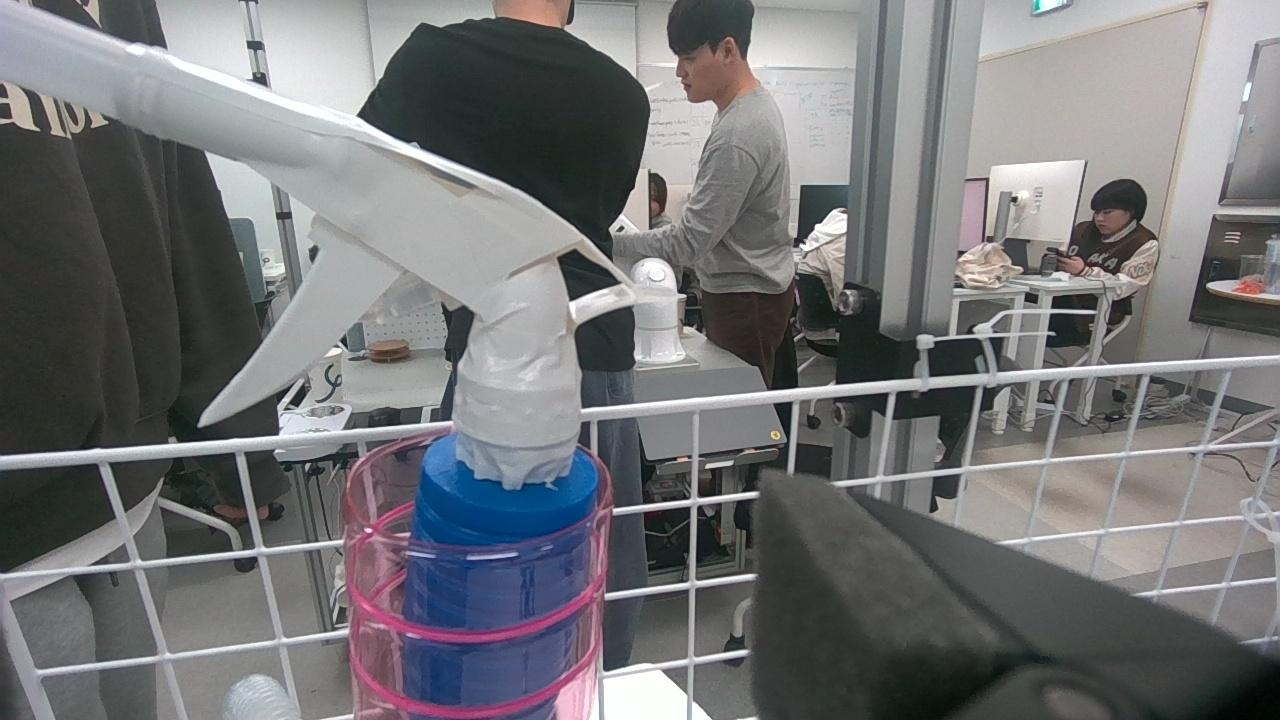Nozzle: (114, 33, 657, 677)
